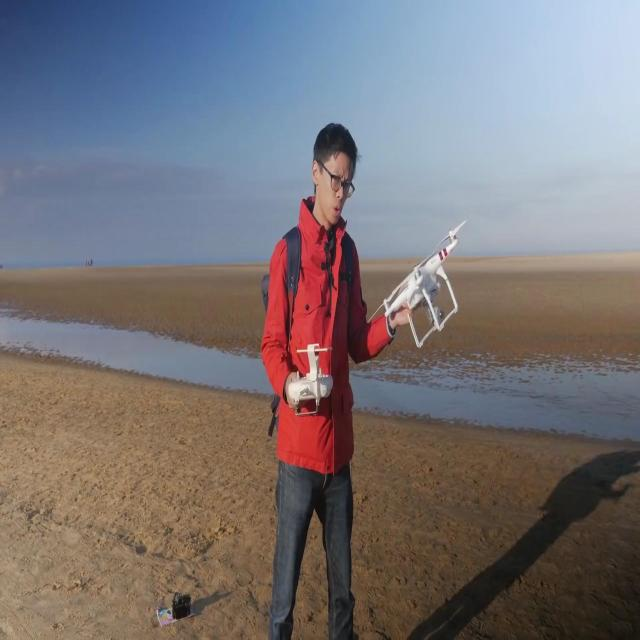Drone_FW: (368, 215, 469, 348)
